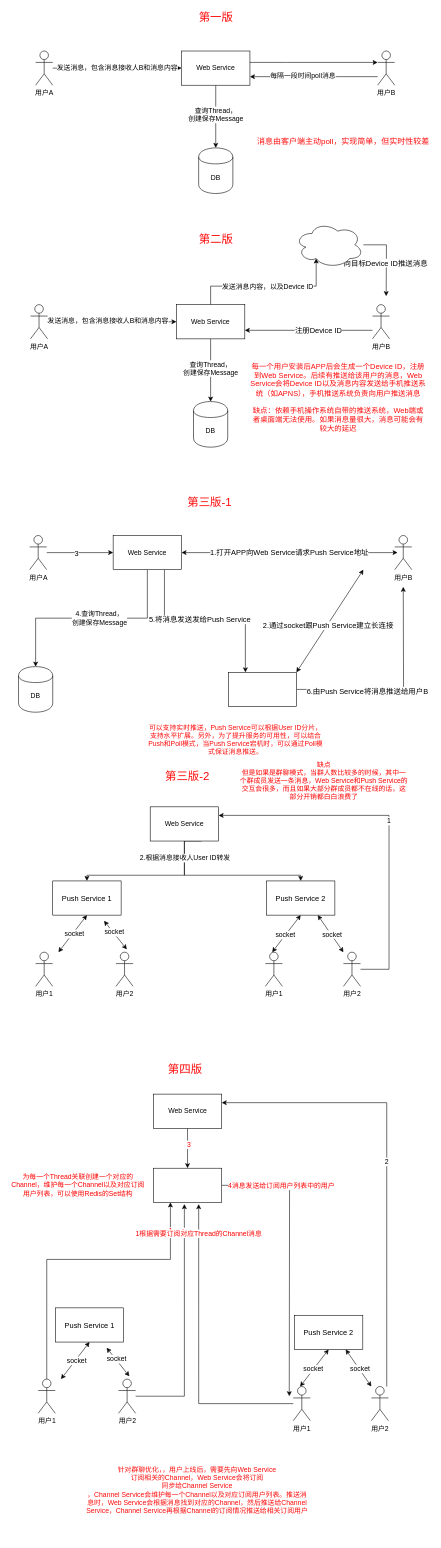
Some shapes in this 441 by 1548 pixel diagram are drawn without their labels. Each missing label, with the centre of its shape:
APNS: point (328, 244)
Channel Service: point (187, 1185)
Push Service: point (262, 689)
